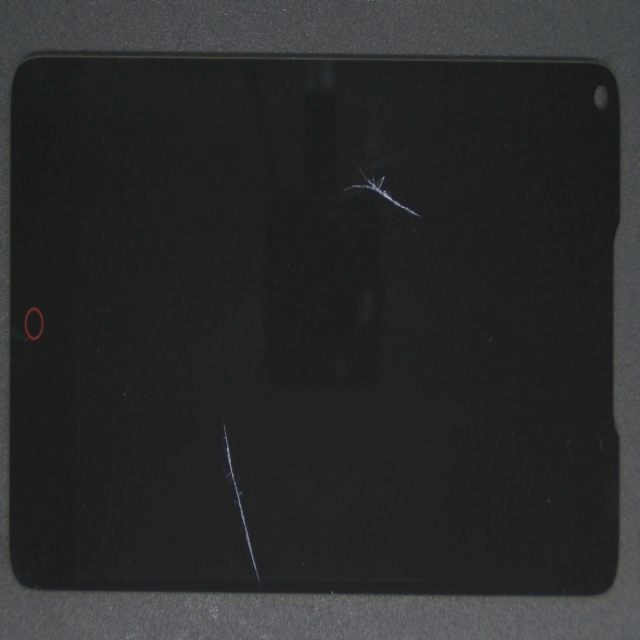scratch: (106, 101, 338, 640), (218, 79, 555, 253)
